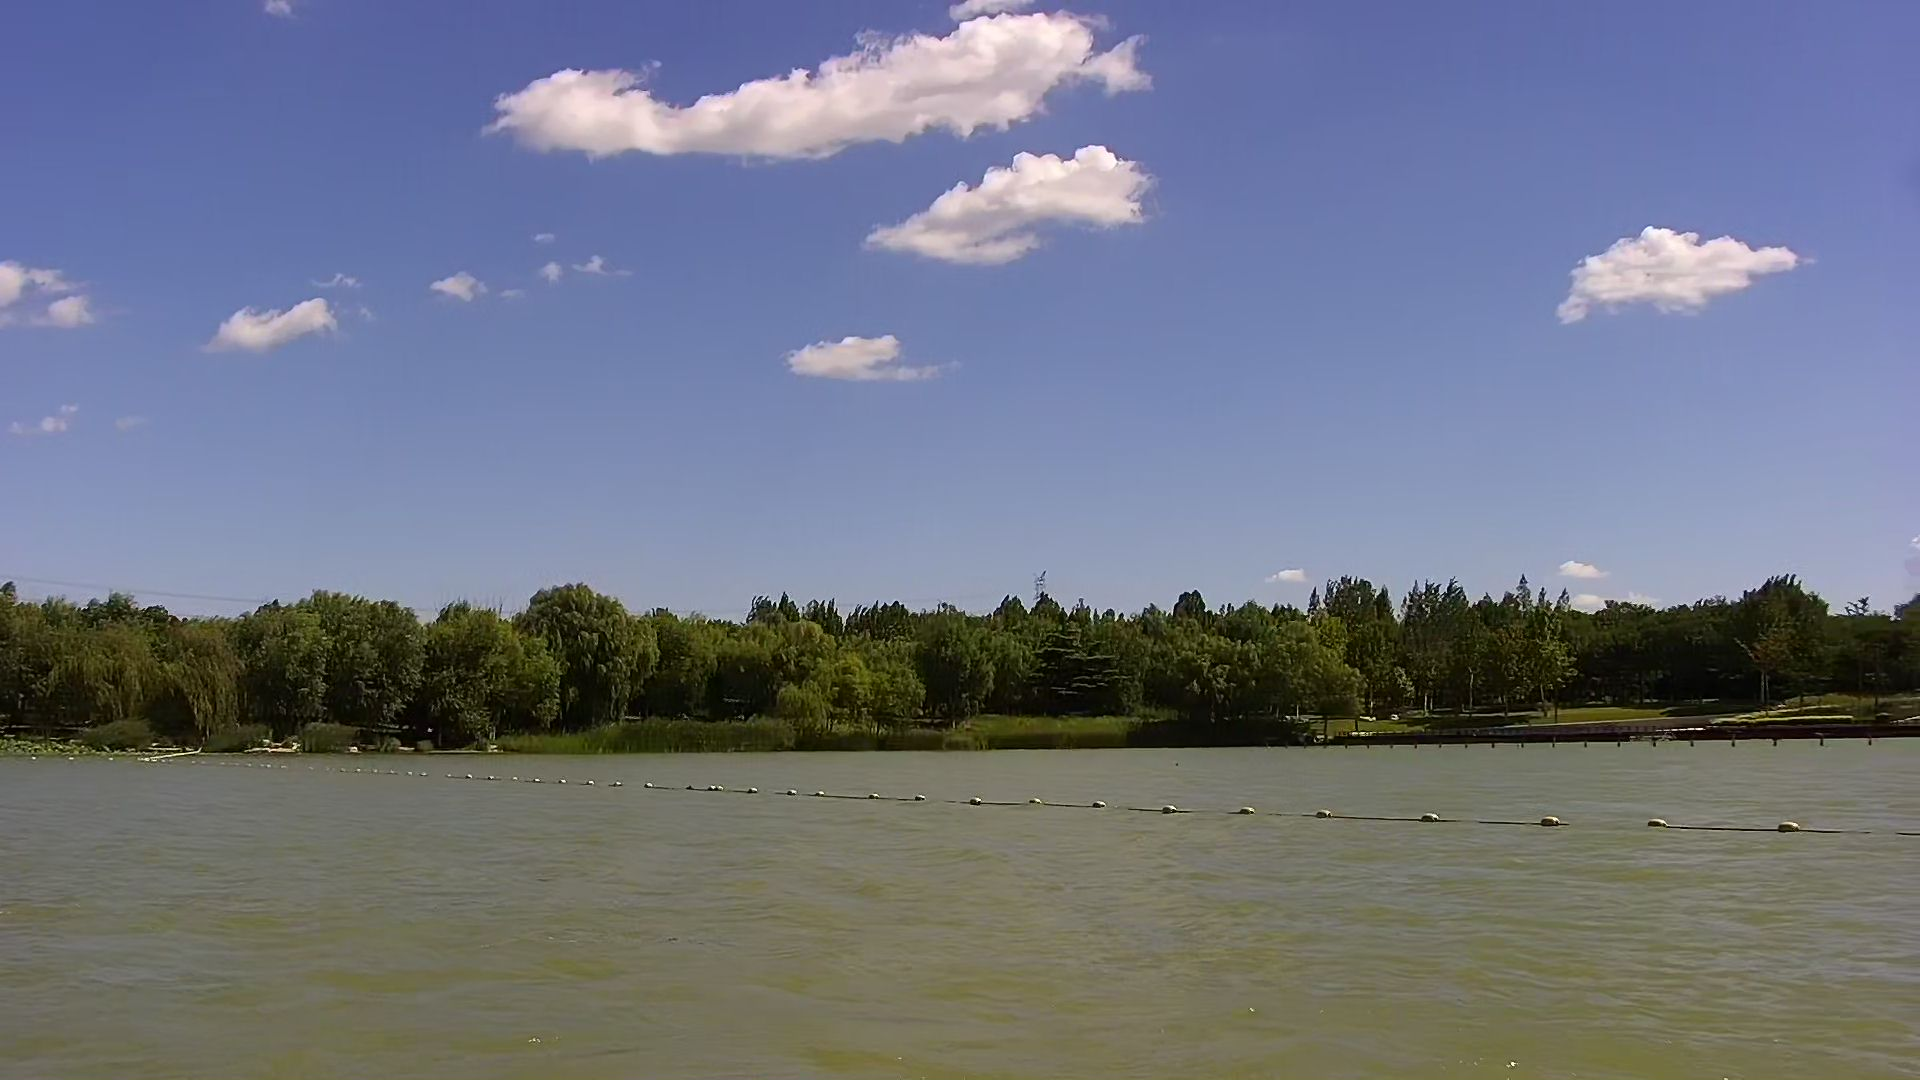ball: (1760, 802, 1809, 847), (1226, 790, 1267, 832), (1147, 785, 1192, 823), (1539, 794, 1576, 839), (1085, 782, 1121, 828), (1307, 794, 1349, 832), (1423, 790, 1448, 833), (1640, 808, 1676, 835), (965, 789, 988, 816)
